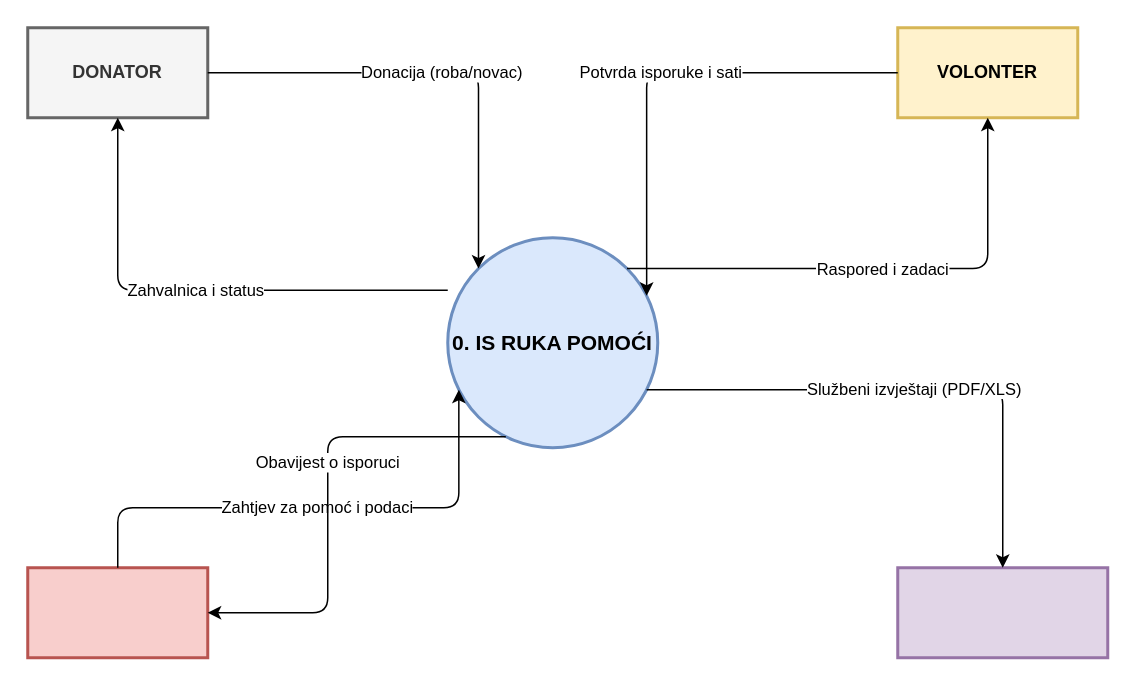
Image size: 1134x684. Some labels were removed from this diagram. Each missing label, with the centre of its shape:
"KORISNIK (OBITELJ)" goes at (x=117, y=612).
"NADZORNA TIJELA / MINISTARSTVO" goes at (x=1002, y=612).
